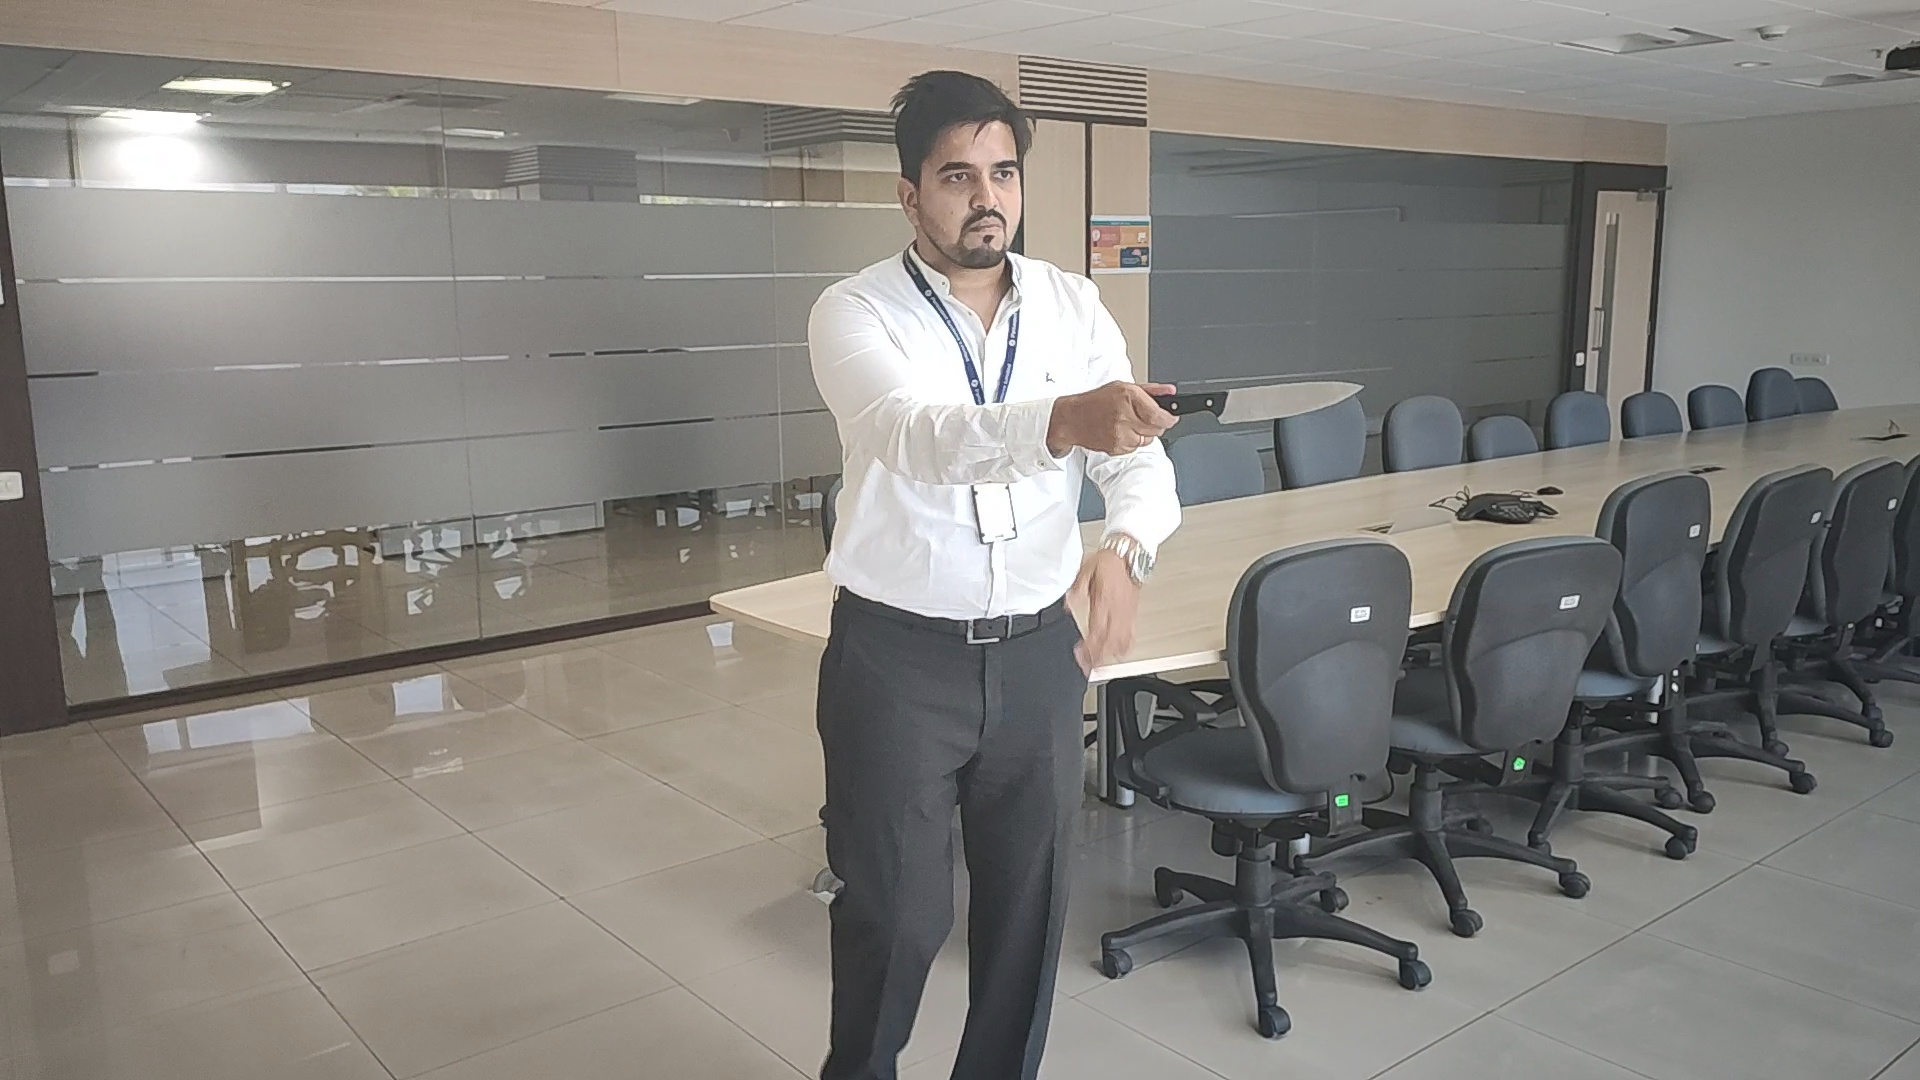knife: (1182, 380, 1366, 426)
